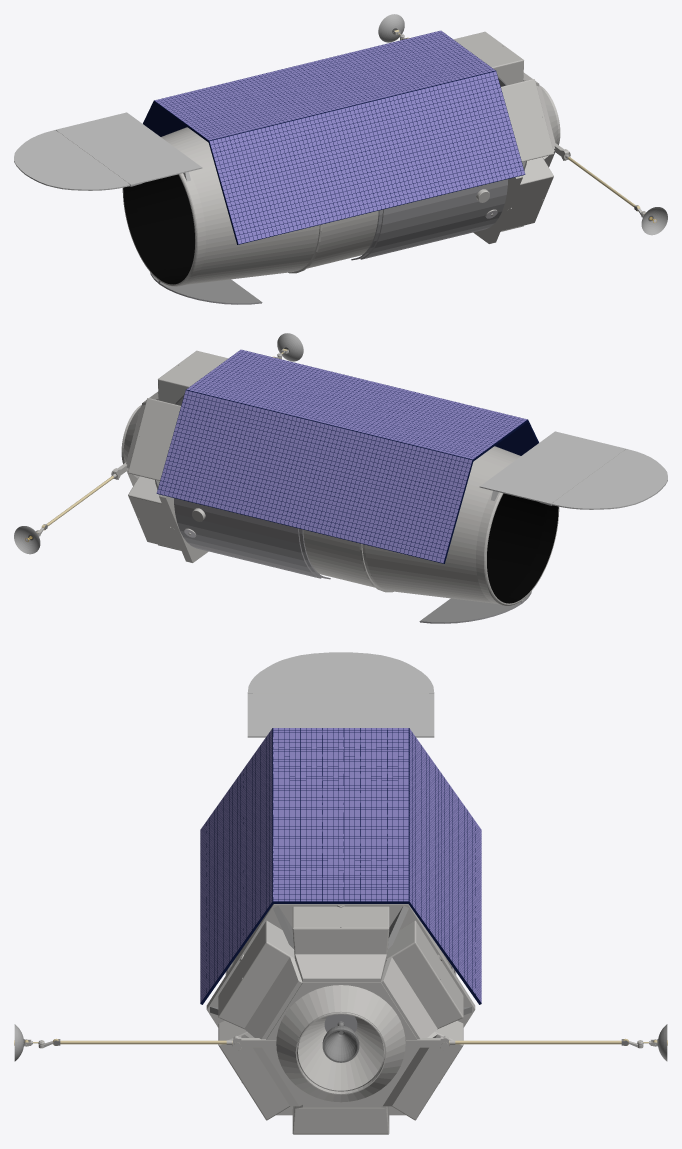
The model's file is roman.glb.
The picture shows the model from 3 angles, top to bottom: view 1: azimuth 30°, elevation 25°; view 2: azimuth 150°, elevation 25°; view 3: azimuth 270°, elevation 25°; orthographic projection. The views are drawn at different scales.
Parts seen in each view (by area): view 1: Wfirst-maintube, solarpanel, doors, dishes; view 2: Wfirst-maintube, solarpanel, doors, dishes; view 3: Wfirst-maintube, solarpanel, doors, dishes.
Boxes of the visible parts, left/top/right/bottom form: Wfirst-maintube: left=57, top=29, right=645, bottom=304; solarpanel: left=155, top=30, right=524, bottom=243; doors: left=14, top=112, right=261, bottom=303; dishes: left=378, top=14, right=667, bottom=235; Wfirst-maintube: left=36, top=348, right=624, bottom=623; solarpanel: left=157, top=349, right=526, bottom=562; doors: left=420, top=431, right=667, bottom=622; dishes: left=14, top=333, right=303, bottom=554; Wfirst-maintube: left=24, top=693, right=657, bottom=1134; solarpanel: left=200, top=728, right=481, bottom=1002; doors: left=247, top=652, right=434, bottom=737; dishes: left=14, top=1024, right=667, bottom=1061.
Size of the model in its own units: 412 by 131 by 364.
